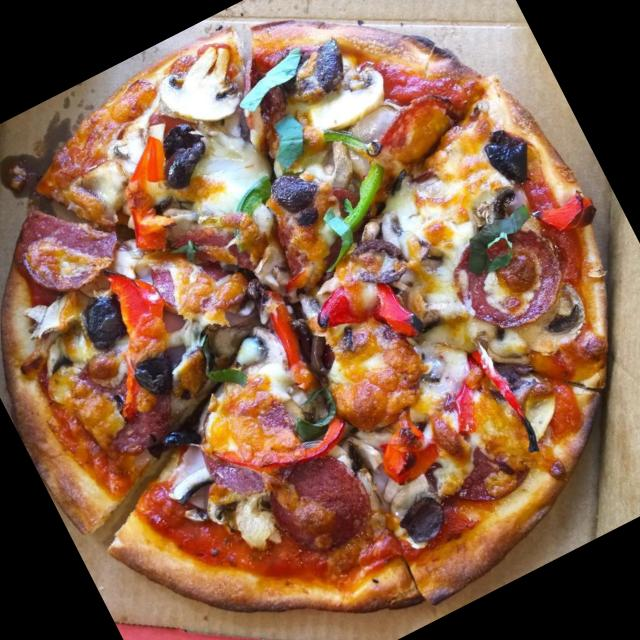black_olives: (344, 225, 412, 292), (150, 115, 217, 183), (481, 122, 541, 190), (392, 483, 452, 546), (75, 291, 134, 349), (264, 161, 322, 216), (128, 349, 178, 400)
mushrooms: (248, 31, 402, 167), (143, 30, 264, 146), (10, 290, 99, 384), (164, 460, 234, 538)
pepperoni: (61, 331, 196, 475), (0, 178, 128, 306), (447, 214, 576, 338), (418, 389, 544, 515), (183, 380, 310, 504), (260, 439, 384, 564), (146, 217, 260, 325), (366, 90, 468, 176)
peppers: (82, 130, 206, 264), (292, 156, 415, 272), (308, 260, 416, 365), (427, 334, 530, 442), (244, 283, 336, 397), (203, 172, 294, 262), (362, 406, 446, 494), (529, 172, 599, 240), (188, 322, 245, 394), (321, 116, 380, 174)
pizza: (3, 22, 611, 614)
